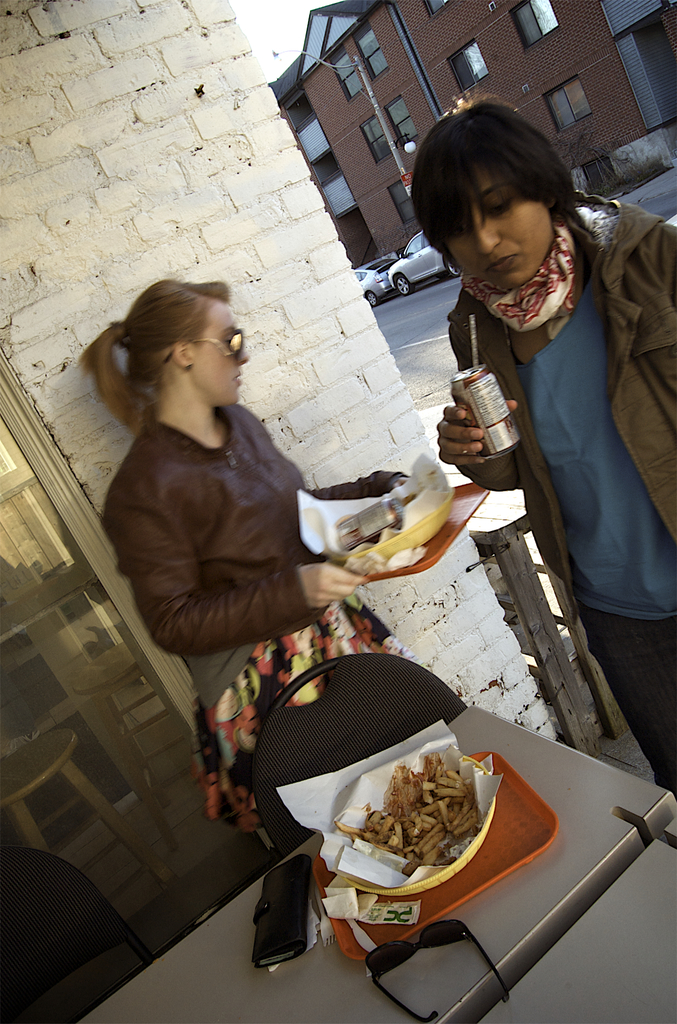French fries: (358, 751, 507, 885)
